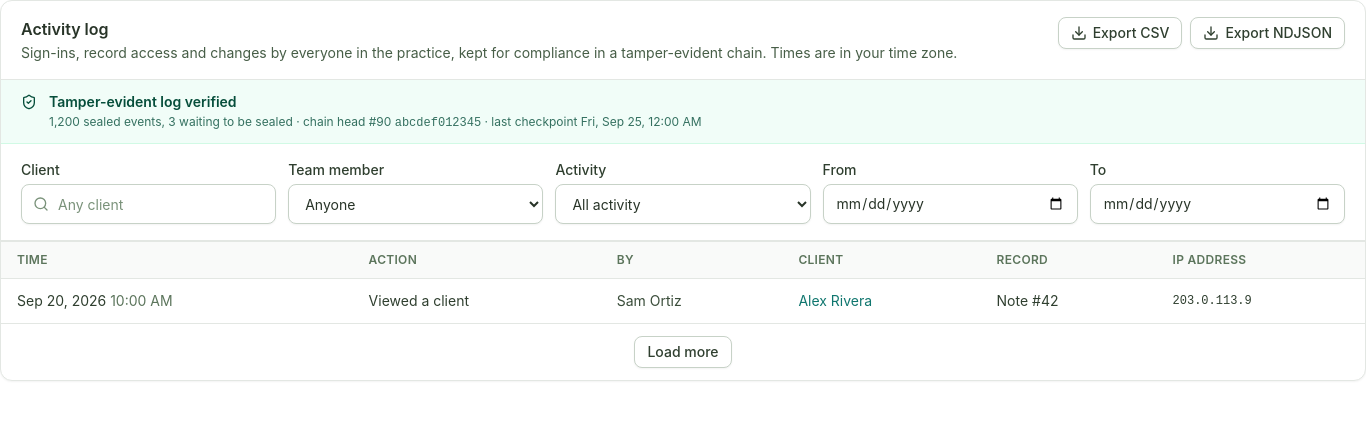
Test: ActivitySettings › loads older events with the cursor
This screenshot has width=1366, height=427.
What coordinates should you click on to do the following:
click the button "Load more"
I would click on:
 (683, 352)
Its box is [634,336,732,368].
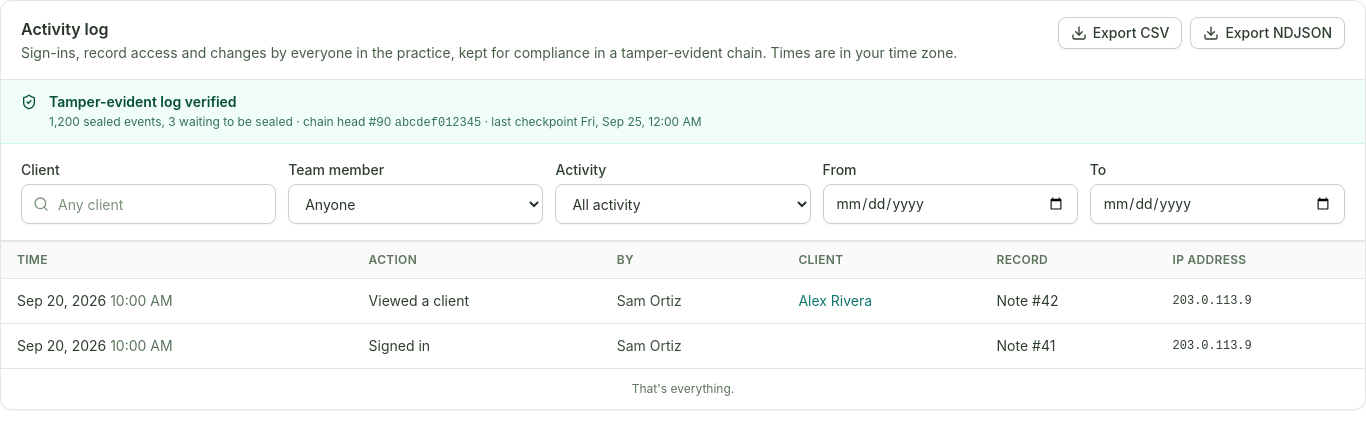
Result: the text "Signed in" is shown at [369,337,430,354]
Result: the text "That's everything." is shown at [632,381,734,397]
